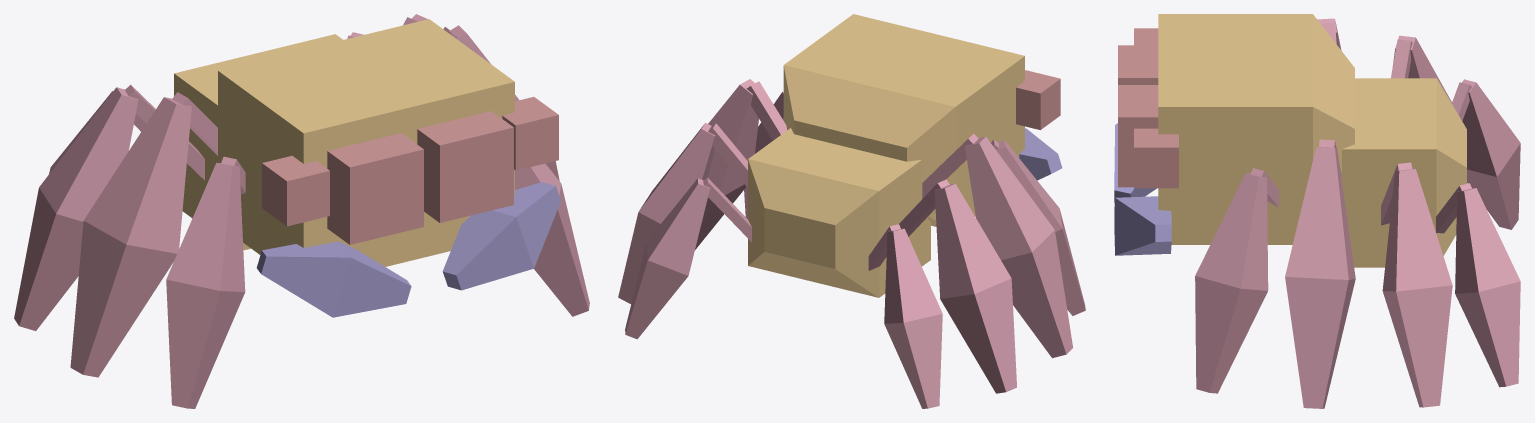
File: Spider.fbx
3 renders of one model, left to right at view 1: azimuth 30°, elevation 25°; view 2: azimuth 150°, elevation 25°; view 3: azimuth 270°, elevation 25°, orthographic. The views are drawn at different scales.
Visible parts, largest first — view 1: leg_end (×5), head, eyes, fangs, fangs1, butt, leg_root (×2); view 2: leg_end (×8), head, butt, leg_root (×6), eyes, fangs; view 3: leg_end (×6), head, butt, eyes, fangs1, leg_root (×5), fangs.
Boxes of the visible parts, left/top/right/bottom form: leg_end (×5): left=14, top=25, right=589, bottom=408; head: left=218, top=19, right=514, bottom=266; eyes: left=262, top=97, right=558, bottom=244; fangs: left=256, top=241, right=411, bottom=317; fangs1: left=442, top=182, right=560, bottom=290; butt: left=174, top=34, right=342, bottom=250; leg_root (×2): left=125, top=84, right=217, bottom=180; leg_end (×8): left=618, top=79, right=1085, bottom=408; head: left=783, top=14, right=1024, bottom=226; butt: left=748, top=128, right=930, bottom=297; leg_root (×6): left=703, top=81, right=978, bottom=270; eyes: left=1016, top=70, right=1060, bottom=129; fangs: left=1019, top=128, right=1062, bottom=180; leg_end (×6): left=1195, top=35, right=1520, bottom=408; head: left=1158, top=14, right=1354, bottom=244; butt: left=1342, top=78, right=1466, bottom=267; eyes: left=1118, top=28, right=1178, bottom=188; fangs1: left=1114, top=196, right=1171, bottom=255; leg_root (×5): left=1250, top=39, right=1471, bottom=233; fangs: left=1114, top=123, right=1156, bottom=202.
Size of the model in its own units: 4.9 by 2.59 by 3.87.
